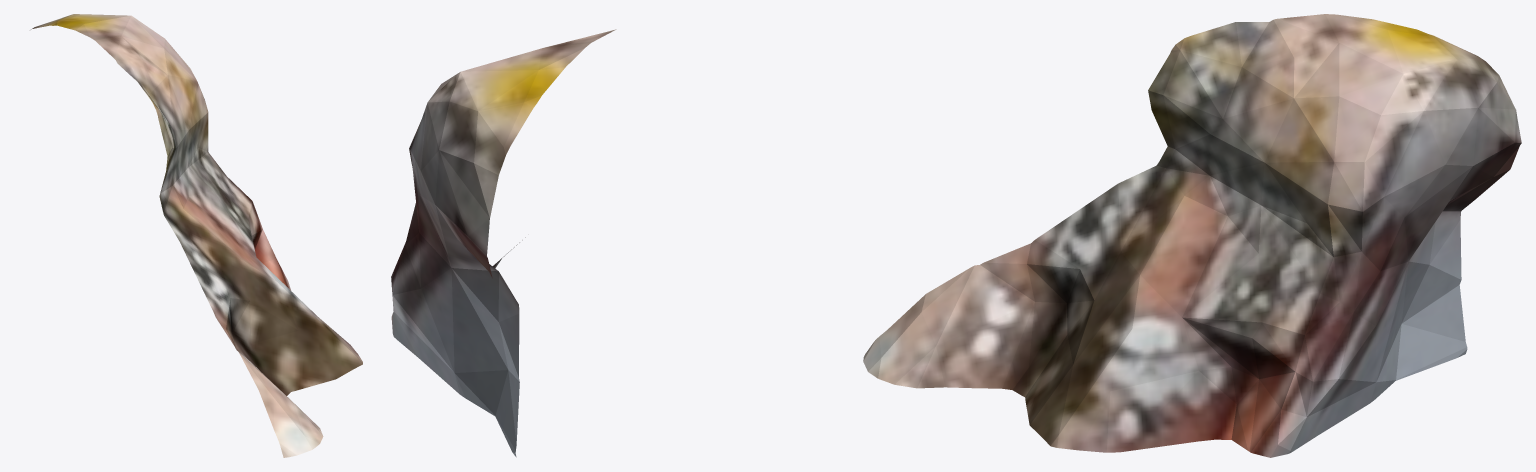
3 renders of one model, left to right at view 1: azimuth 30°, elevation 25°; view 2: azimuth 150°, elevation 25°; view 3: azimuth 270°, elevation 25°, orthographic. The views are drawn at different scales.
Size of the model in its own units: 0.1882 by 0.2872 by 0.5041.
1 material, 1 textured.
